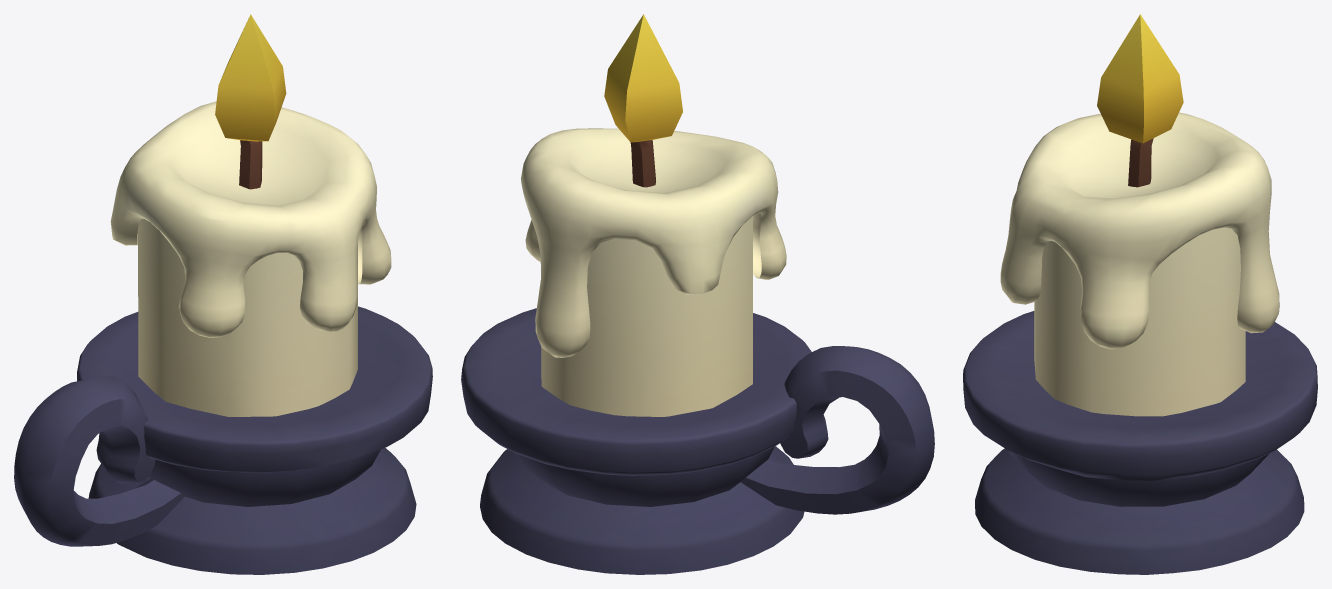
The model's file is candle.glb.
3 renders of one model, left to right at view 1: azimuth 30°, elevation 25°; view 2: azimuth 150°, elevation 25°; view 3: azimuth 270°, elevation 25°, orthographic.
Visible parts, largest first — view 1: WBA_Decoration_Candle_01; view 2: WBA_Decoration_Candle_01; view 3: WBA_Decoration_Candle_01.
Boxes of the visible parts, box(x1,y1,x2,y2) form: WBA_Decoration_Candle_01: box(14, 14, 432, 574); WBA_Decoration_Candle_01: box(461, 14, 934, 574); WBA_Decoration_Candle_01: box(963, 14, 1317, 574).
Bounding box in the file's own units: 0.2089 × 0.2363 × 0.1539.
Materials: 1 (1 with a texture image).
